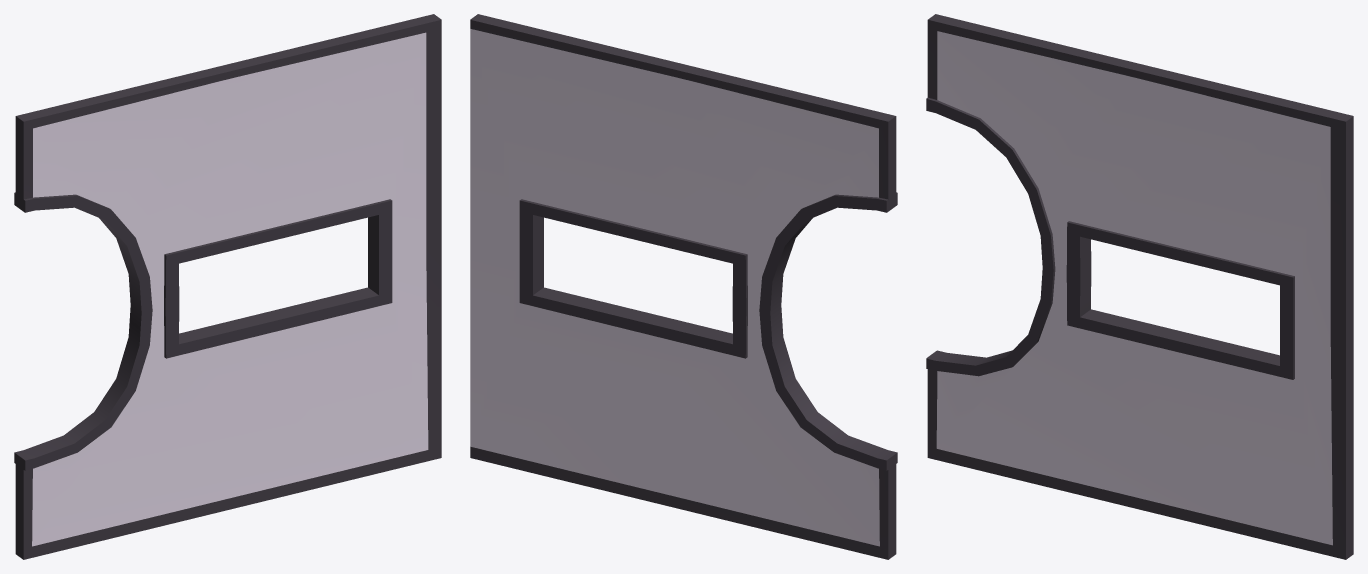
The model's file is obstaculo3.fbx.
The picture shows the model from 3 angles, left to right: view 1: azimuth 30°, elevation 25°; view 2: azimuth 150°, elevation 25°; view 3: azimuth 330°, elevation 25°; orthographic projection.
Parts seen in each view (by area): view 1: obstacle.000; view 2: obstacle.000; view 3: obstacle.000.
Part boxes in pixels (left/top/right/bottom): obstacle.000: left=14, top=14, right=441, bottom=559; obstacle.000: left=470, top=14, right=897, bottom=559; obstacle.000: left=926, top=14, right=1353, bottom=559.
Size of the model in its own units: 1282 by 1284 by 58.4.
Materials: 1 (1 with a texture image).
